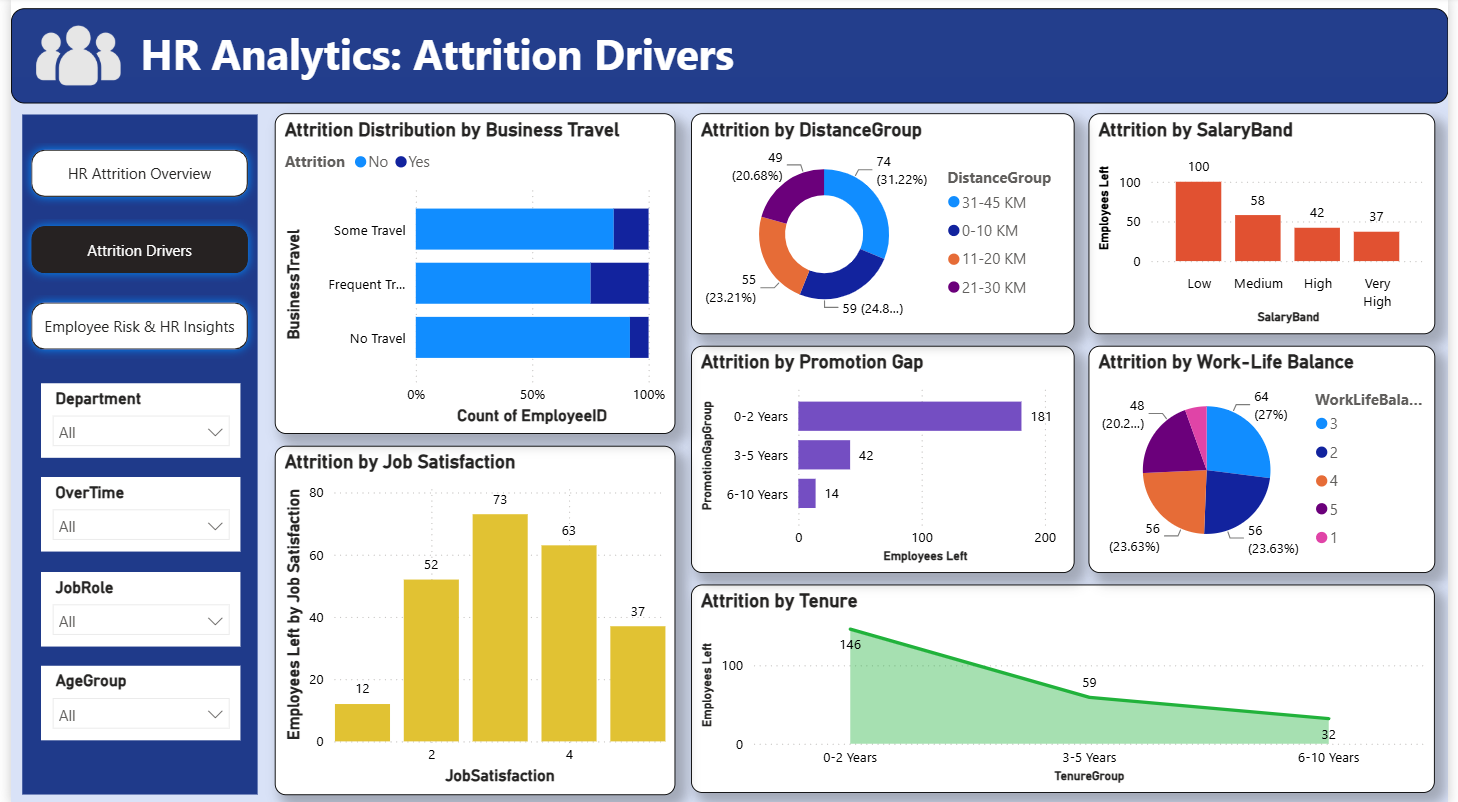

This screenshot's page, from the dashboard's own definition file:
{"tool":"powerbi","page":{"name":"Attrition Drivers","canvas":[1280,720],"ordinal":1},"visuals":[{"type":"textbox","box":[0,0,1280.2,71.5],"z":0},{"type":"textbox","box":[0,10,1280.2,84.6],"z":1000},{"type":"image","box":[0,14.3,120.4,75.1],"z":2000},{"type":"textbox","box":[9.5,104.9,209.8,605.6],"z":3000},{"type":"clusteredColumnChart","title":"Attrition by SalaryBand","fields":{"Category":["employee.SalaryBand"],"Y":["HR Measures.Employees Left"]},"box":[959.1,103.8,308.8,196.6],"z":4000},{"type":"lineChart","title":"Attrition by Tenure","fields":{"Category":["employee.TenureGroup"],"Y":["HR Measures.Employees Left"]},"box":[605.6,523.6,662.3,185.8],"z":5000},{"type":"clusteredBarChart","title":"Attrition by Promotion Gap","fields":{"Category":["employee.PromotionGapGroup"],"Y":["HR Measures.Employees Left"]},"box":[605.6,310.1,341.4,202.7],"z":6000},{"type":"clusteredColumnChart","title":"Attrition by Job Satisfaction","fields":{"Y":["HR Measures.Employees Left by Job Satisfaction"],"Category":["performance_rating.JobSatisfaction"]},"box":[235.3,399.3,357.1,311.3],"z":7000},{"type":"pieChart","title":"Attrition by Work-Life Balance","fields":{"Category":["performance_rating.WorkLifeBalance"],"Y":["HR Measures.Employees Left by Work-Life Balance"]},"box":[959.1,310.1,308.8,202.7],"z":8000},{"type":"hundredPercentStackedBarChart","title":"Attrition Distribution by Business Travel","fields":{"Series":["employee.Attrition"],"Y":["CountNonNull(employee.EmployeeID)"],"Category":["employee.BusinessTravel"]},"box":[235.3,103.8,357.1,285.9],"z":9000},{"type":"donutChart","title":"Attrition by DistanceGroup","fields":{"Category":["employee.DistanceGroup"],"Y":["HR Measures.Employees Left"]},"box":[605.6,103.8,341.4,196.6],"z":10000},{"type":"pageNavigator","box":[9.7,127.9,209.9,195.4],"z":11000},{"type":"slicer","fields":{"Values":["employee.Department"]},"box":[26.2,344.5,177.6,66.8],"z":12000},{"type":"slicer","fields":{"Values":["employee.OverTime"]},"box":[26.2,427.9,177.6,66.8],"z":13000},{"type":"slicer","fields":{"Values":["employee.AgeGroup"]},"box":[26.2,596,177.6,66.8],"z":14000},{"type":"slicer","fields":{"Values":["employee.JobRole"]},"box":[26.2,512.6,177.6,66.8],"z":15000}]}

Visuals, with their boxes in screenshot pixels (x1, y1, x2, y2), scaled from the page's 1280x720 canvas onto the 1458x802 screenshot:
textbox: [left=0, top=0, right=1457, bottom=80]
textbox: [left=0, top=11, right=1457, bottom=105]
image: [left=0, top=16, right=137, bottom=100]
textbox: [left=11, top=117, right=250, bottom=791]
"Attrition by SalaryBand" clusteredColumnChart: [left=1092, top=116, right=1444, bottom=335]
"Attrition by Tenure" lineChart: [left=690, top=583, right=1444, bottom=790]
"Attrition by Promotion Gap" clusteredBarChart: [left=690, top=345, right=1079, bottom=571]
"Attrition by Job Satisfaction" clusteredColumnChart: [left=268, top=445, right=675, bottom=792]
"Attrition by Work-Life Balance" pieChart: [left=1092, top=345, right=1444, bottom=571]
"Attrition Distribution by Business Travel" hundredPercentStackedBarChart: [left=268, top=116, right=675, bottom=434]
"Attrition by DistanceGroup" donutChart: [left=690, top=116, right=1079, bottom=335]
pageNavigator: [left=11, top=142, right=250, bottom=360]
slicer - employee.Department: [left=30, top=384, right=232, bottom=458]
slicer - employee.OverTime: [left=30, top=477, right=232, bottom=551]
slicer - employee.AgeGroup: [left=30, top=664, right=232, bottom=738]
slicer - employee.JobRole: [left=30, top=571, right=232, bottom=645]
